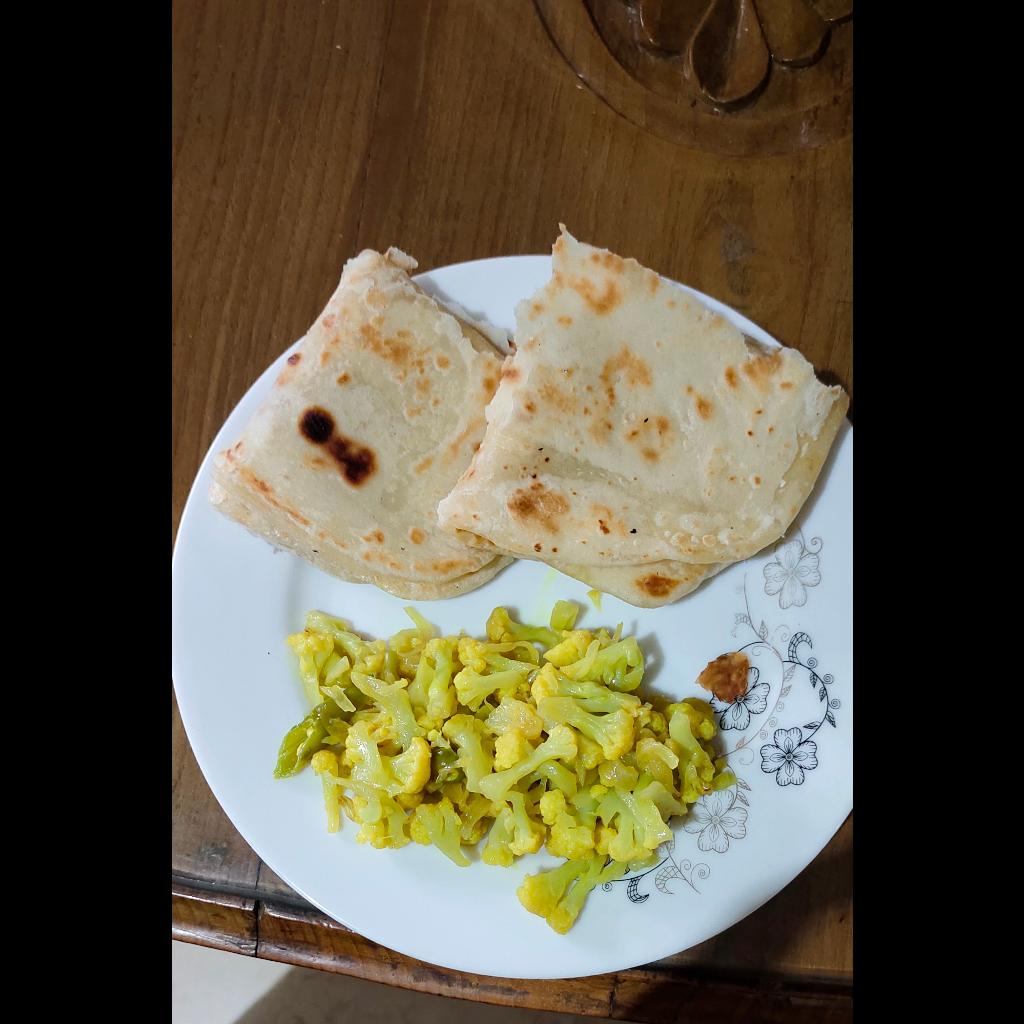cauliflower: (271, 600, 741, 931)
ruti: (207, 219, 851, 609)
